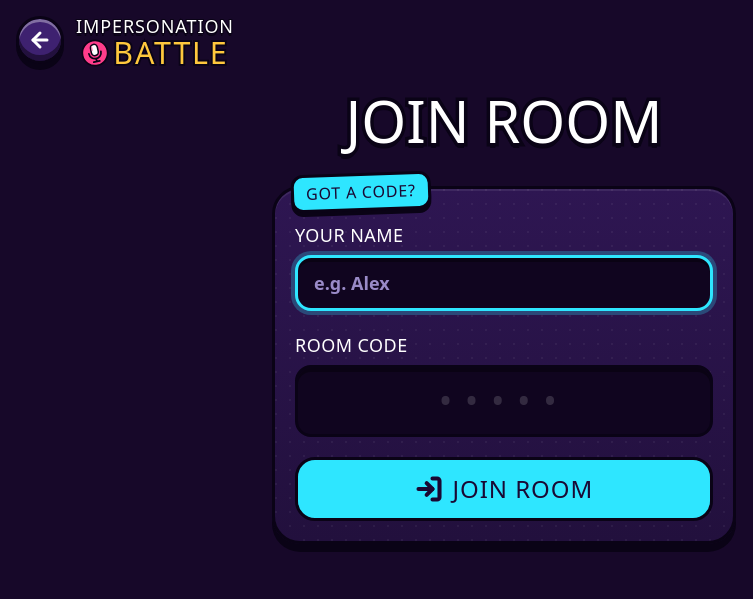
Scenario: JoinRoomPage › rejects codes with look-alike characters
The width and height of the screenshot is (753, 599).
Type "Ana" into the field labelled "Your name" at coordinates (504, 283), box [295, 255, 713, 311]
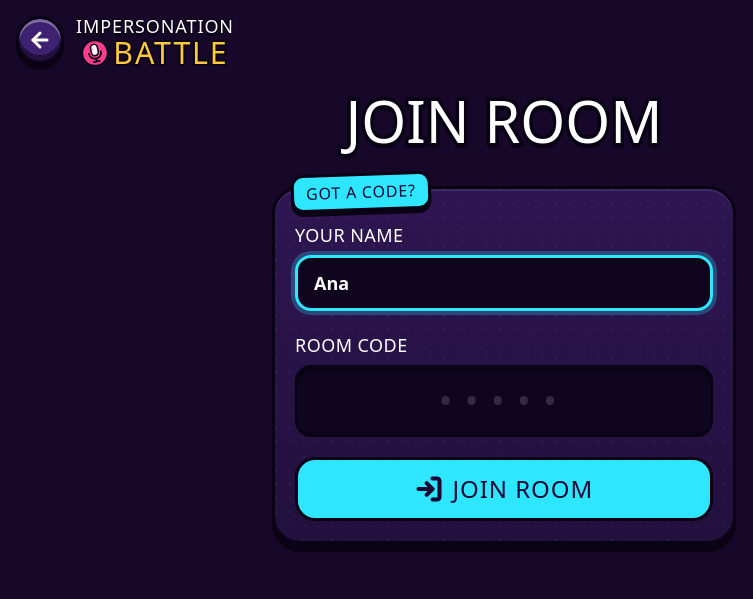
Type "abcde0" into the field labelled "Room code" at coordinates (504, 401), box [295, 365, 713, 437]
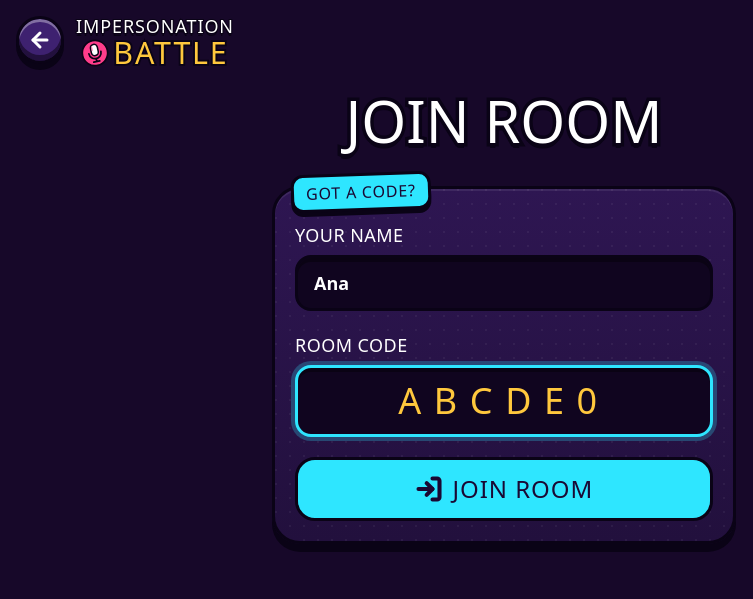
Click the button "Join Room" at coordinates (504, 489), box [295, 457, 713, 521]
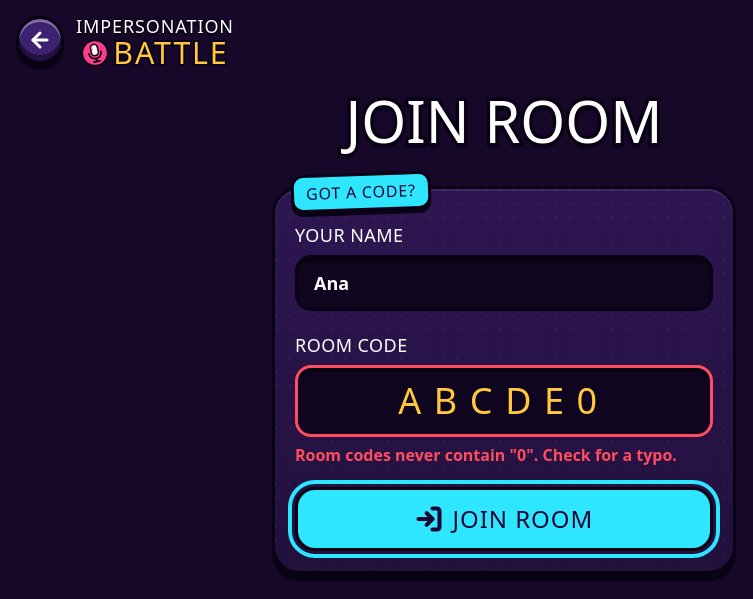
Check: the text "Room codes never contain \"0\". Check for a typo." is shown, box [295, 443, 713, 467]
